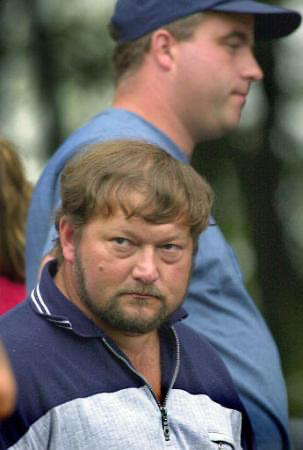Face: (70, 186, 212, 339), (158, 14, 270, 135)
